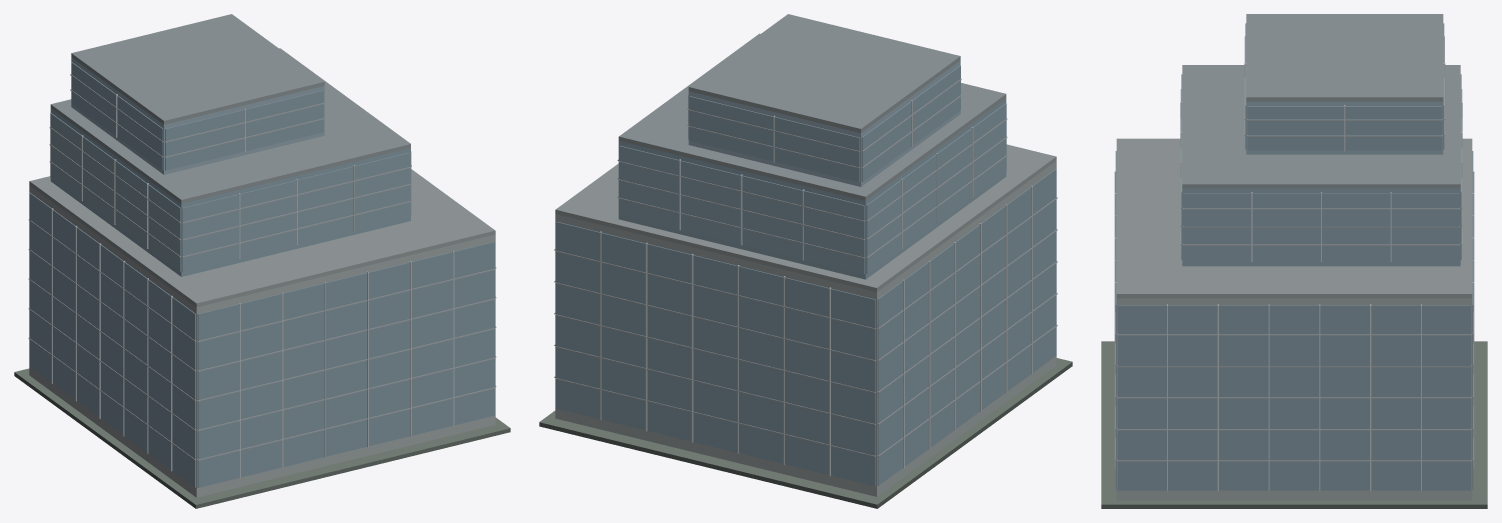
File: commercial-block.glb
3 views of the same model, side by side, from view 1: azimuth 30°, elevation 25°; view 2: azimuth 150°, elevation 25°; view 3: azimuth 270°, elevation 25° (orthographic). The views are drawn at different scales.
Parts seen in each view (by area): view 1: commercial-block; view 2: commercial-block; view 3: commercial-block.
Part boxes in pixels (left/top/right/bottom): commercial-block: left=14, top=14, right=510, bottom=508; commercial-block: left=539, top=14, right=1072, bottom=508; commercial-block: left=1101, top=14, right=1487, bottom=508.
Bounding box in the file's own units: 1 × 1 × 1.
